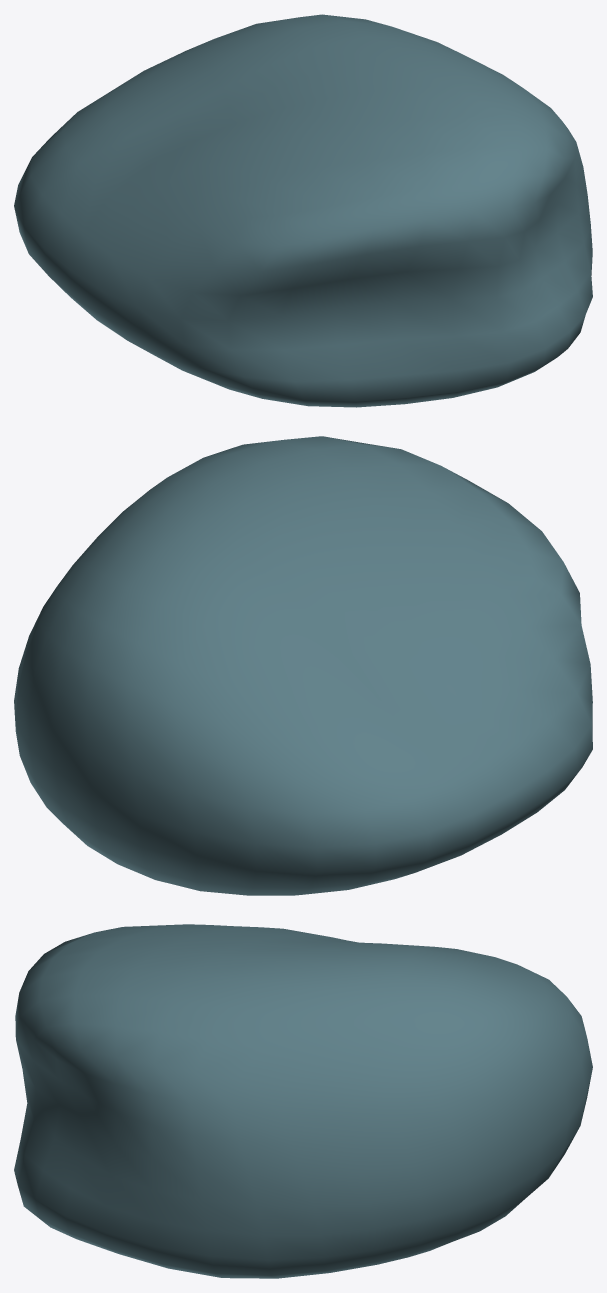
File: Rock_C_05.fbx
3 renders of one model, top to bottom at view 1: azimuth 30°, elevation 25°; view 2: azimuth 150°, elevation 25°; view 3: azimuth 270°, elevation 25°, orthographic. The views are drawn at different scales.
Parts seen in each view (by area): view 1: Rock_C_05_LOD0; view 2: Rock_C_05_LOD0; view 3: Rock_C_05_LOD0.
Boxes of the visible parts, x1,y1,x2,y2 form: Rock_C_05_LOD0: [14, 14, 592, 407]; Rock_C_05_LOD0: [14, 436, 592, 895]; Rock_C_05_LOD0: [14, 924, 592, 1278].
Size of what is drawn, in the model's own units: 526 by 278 by 561.
